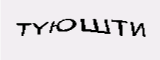Б: (105, 17, 121, 39)
В: (59, 19, 71, 39)
С: (71, 18, 85, 38)
Ф: (39, 20, 54, 43)
Ю: (84, 15, 103, 37)
